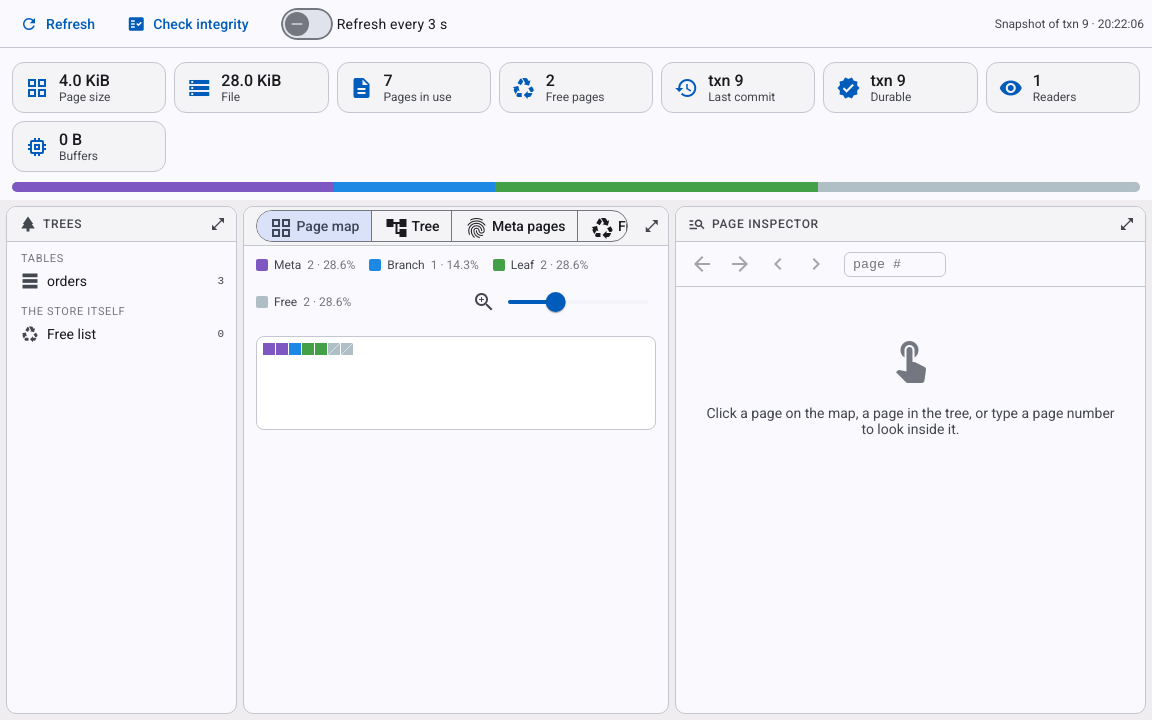
Test: VisualizeComponent › checks the integrity and marks the pages that failed
Click the button with class "check": (190, 24) [115, 6, 265, 42]
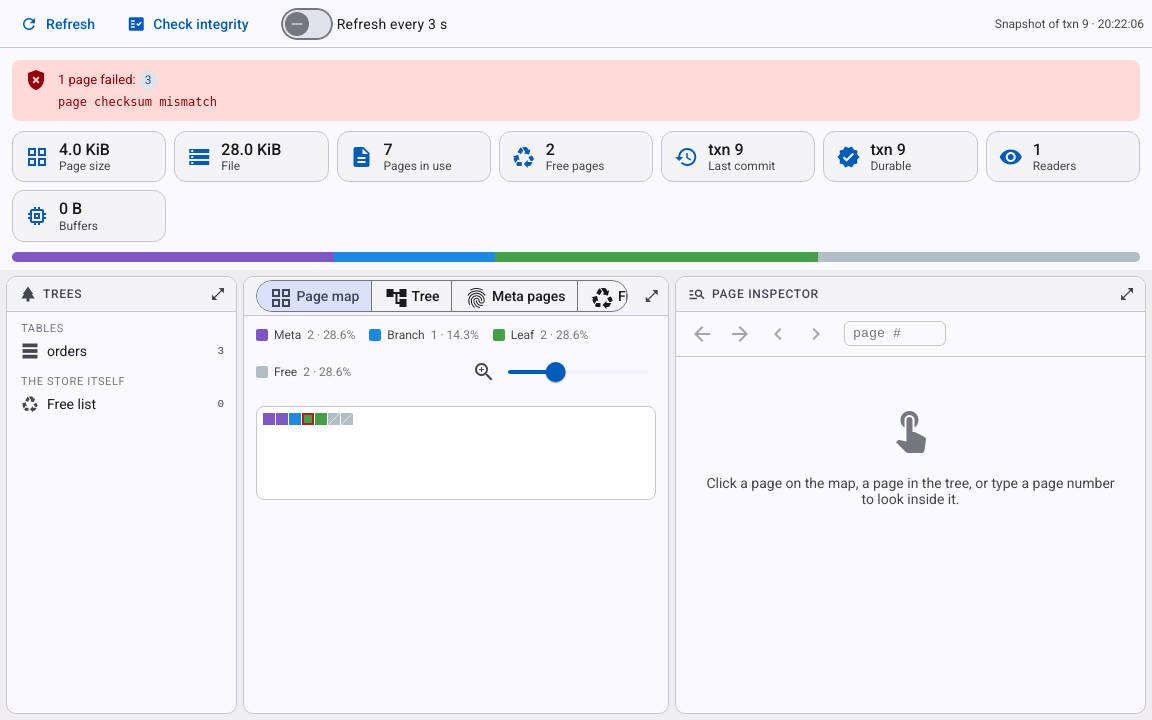
Check: the element with class "error" shows "1 page failed", box [58, 72, 139, 87]
Check: the element with class "error" shows "page checksum mismatch", box [58, 95, 217, 109]
Click the button "3": (148, 81) [139, 70, 158, 92]
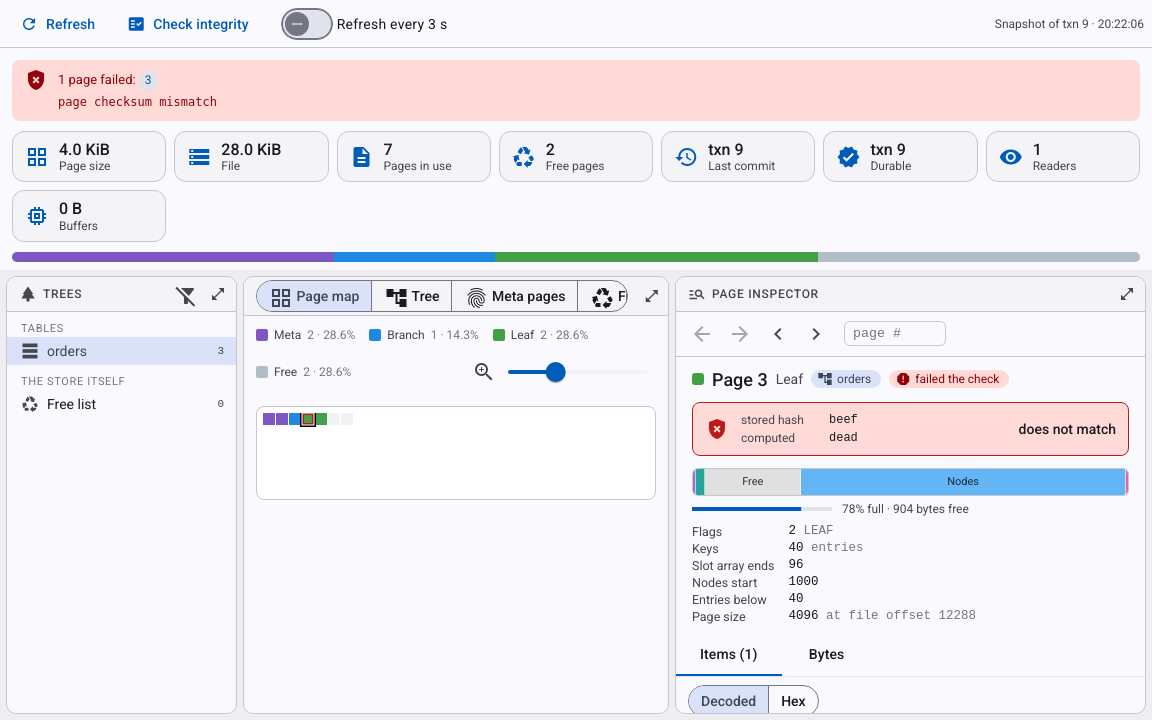
Check: the heading "Page 3" is shown, box [712, 369, 768, 390]
